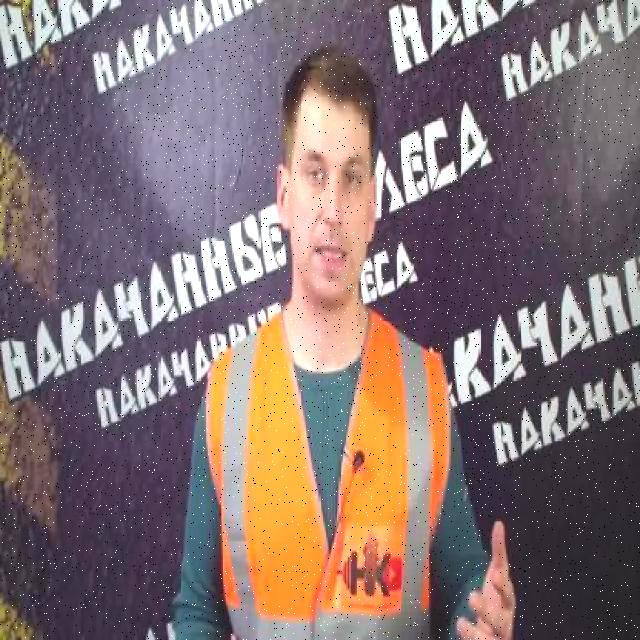Mask: (207, 298, 456, 638)
